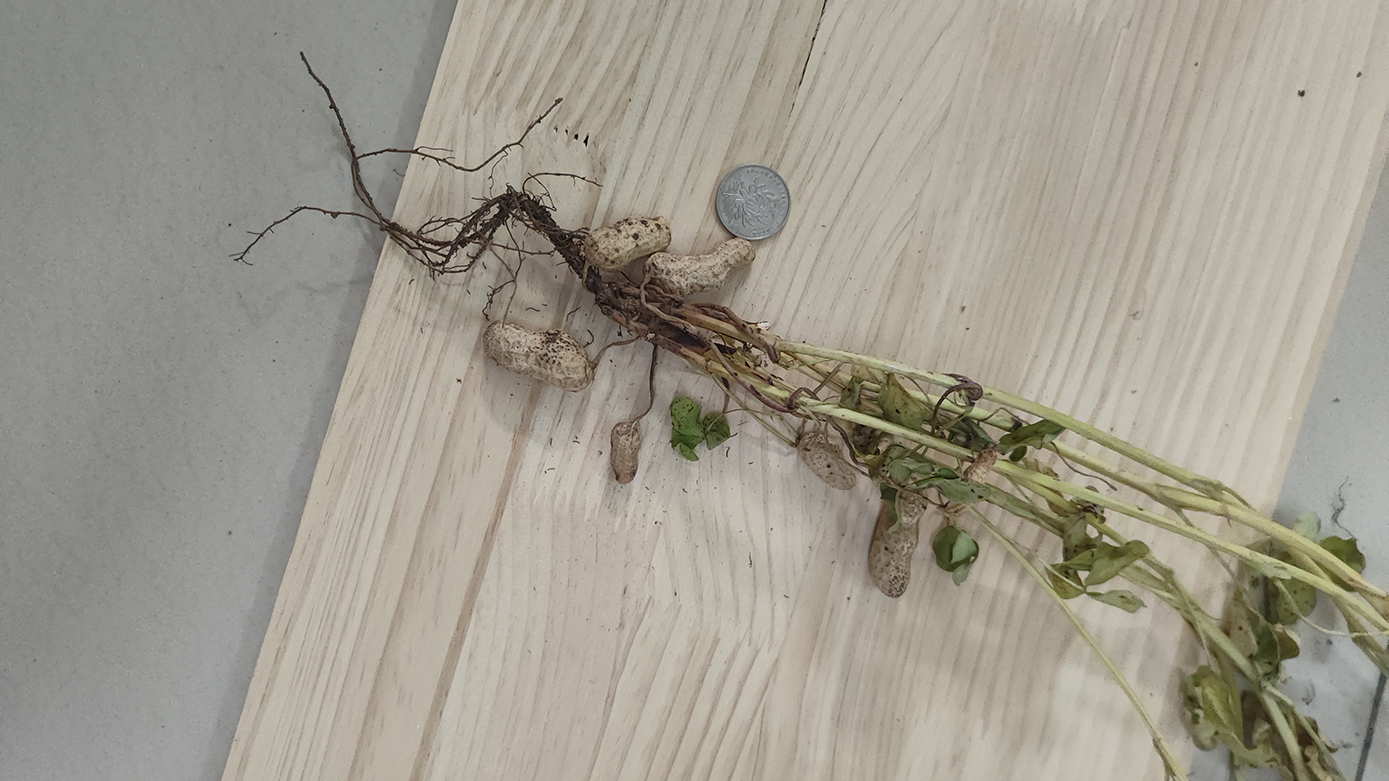h: (484, 319, 595, 392), (868, 476, 927, 600), (643, 239, 757, 301), (584, 214, 671, 269), (798, 427, 859, 491), (610, 418, 641, 484)
l: (947, 445, 997, 516)
